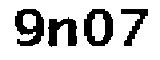0: (82, 7, 113, 49)
7: (116, 7, 151, 50)
9: (10, 6, 46, 52)
n: (47, 15, 78, 50)
